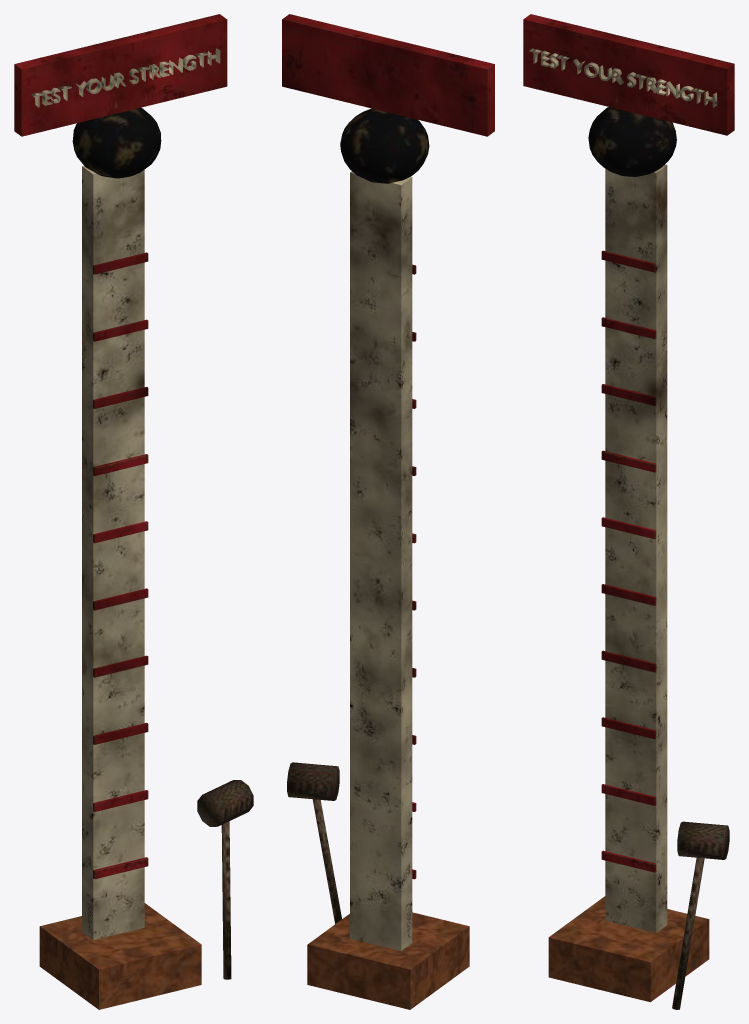
File: striker.glb
3 views of the same model, side by side, from view 1: azimuth 30°, elevation 25°; view 2: azimuth 150°, elevation 25°; view 3: azimuth 330°, elevation 25° (orthographic).
Parts seen in each view (by area): view 1: Main; view 2: Main; view 3: Main.
Part boxes in pixels (x1,y1,x2,y2): Main: (14,14,253,1009); Main: (282,14,494,1009); Main: (523,14,734,1009).
Bounding box in the file's own units: 1.69 × 6.96 × 0.8264.
Materials: 1 (1 with a texture image).
